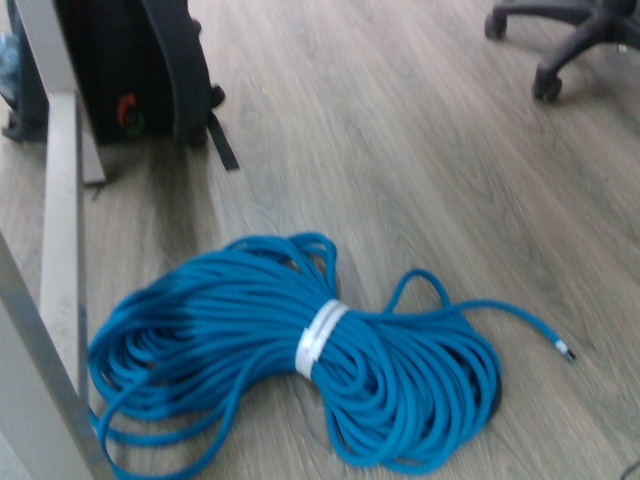rope: (83, 226, 584, 480)
